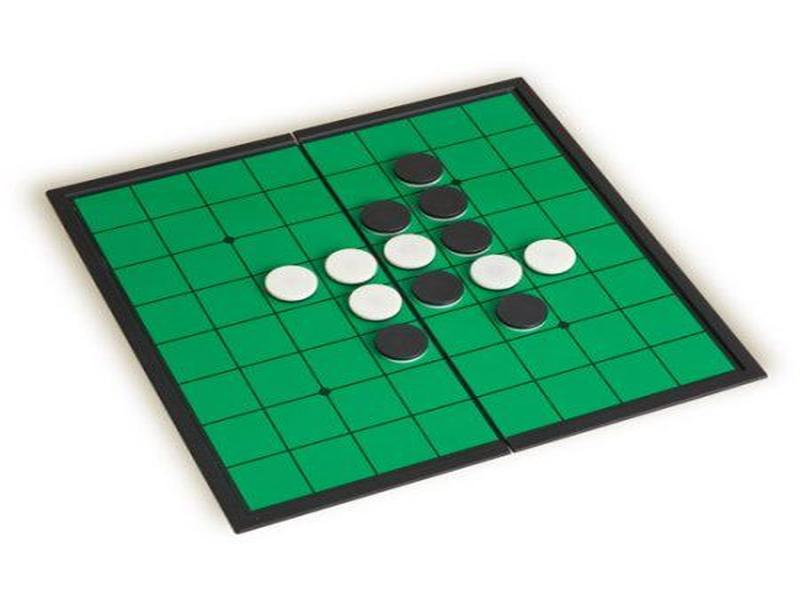black: (365, 323, 441, 370), (406, 263, 470, 312), (496, 289, 553, 340), (395, 147, 449, 189), (361, 199, 414, 241)
white: (247, 266, 327, 307), (521, 234, 582, 282), (323, 244, 381, 288), (468, 250, 522, 293), (356, 279, 406, 321)
